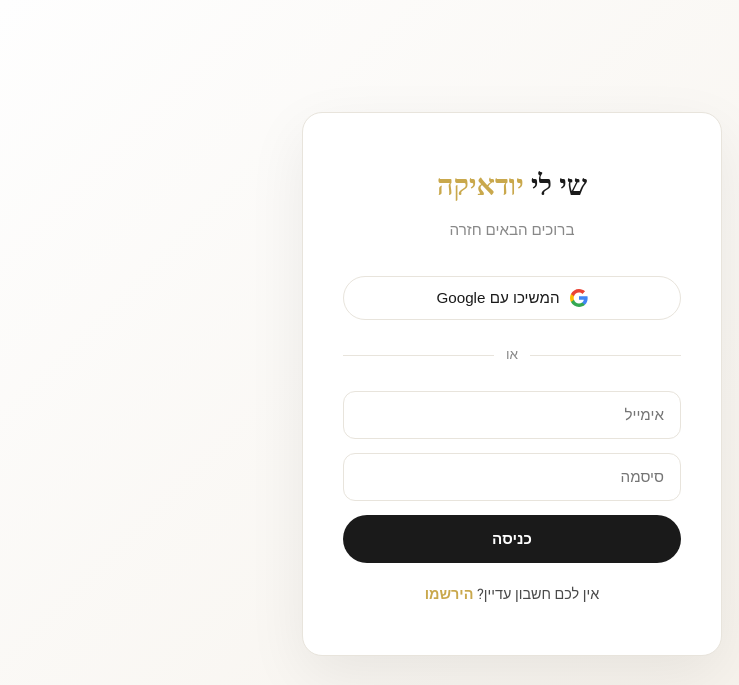
Test case: LoginPage › switches back to sign-in mode from sign-up mode
This screenshot has width=739, height=685.
What coordinates should you click on to do the following:
click the button "הירשמו"
I would click on:
 (449, 594)
Its box is [425,584,474,605].
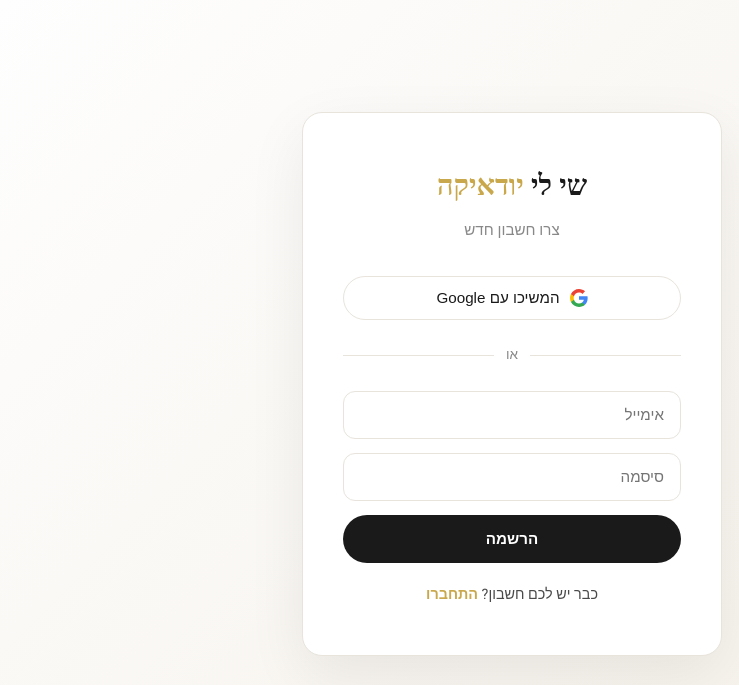
What coordinates should you click on to do the following:
click the button "התחברו"
I would click on:
 (452, 594)
Its box is [426,584,478,605].
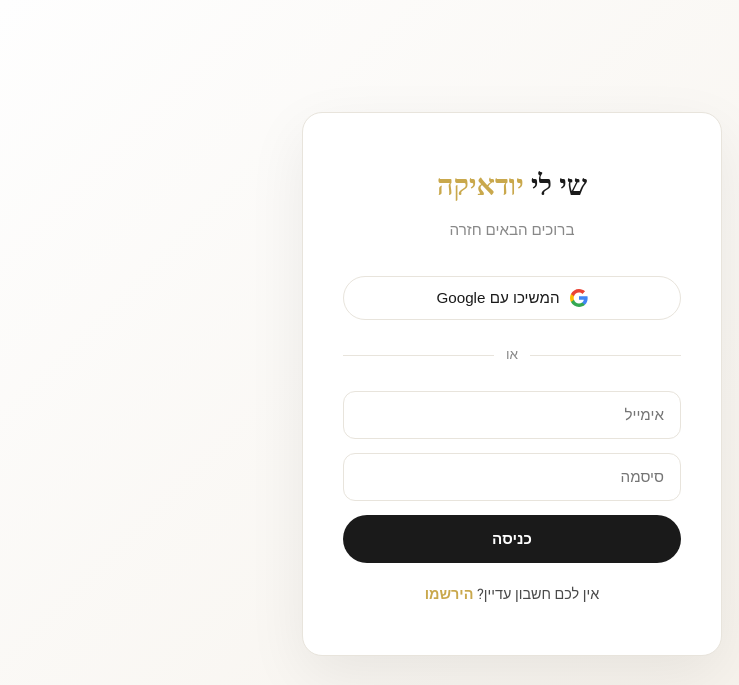
expect the button "כניסה" is shown: met, box [343,515,681,563]
